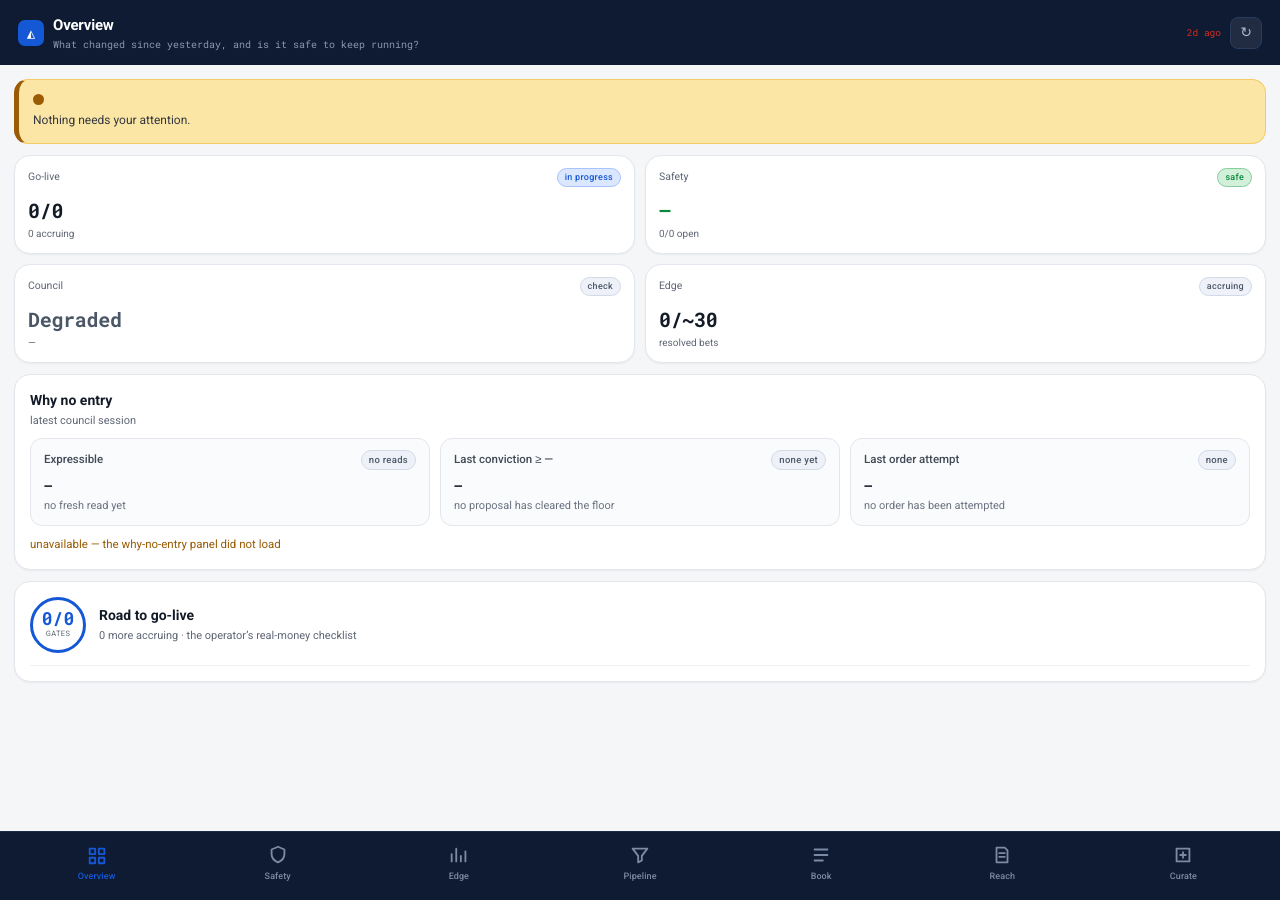
Scenario: book value leads, broker equity is secondary › mobile shows the as-of and STALE chip too
Click the tab "Safety" at (278, 863), box [187,840,368,886]
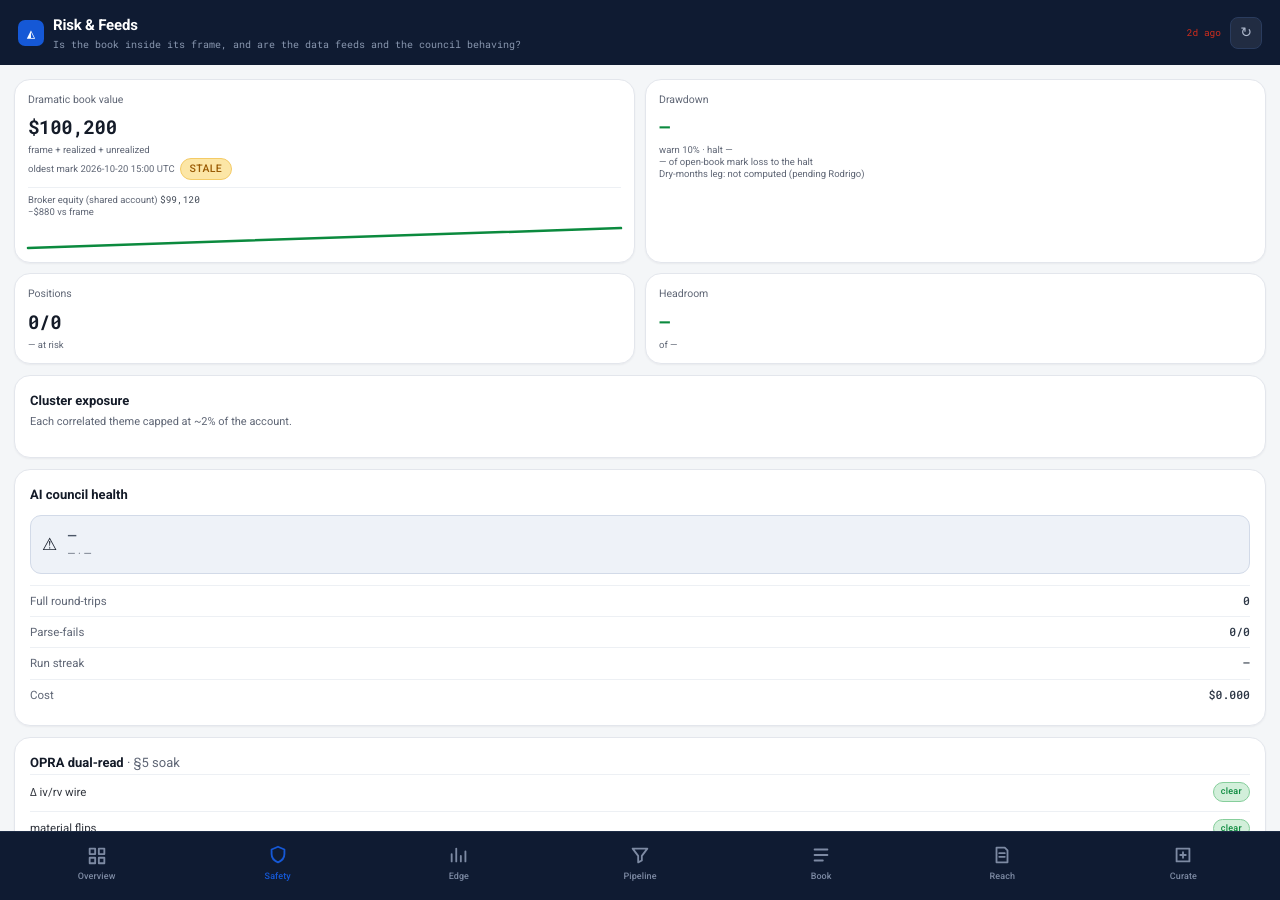
Check: the element with test id "book-as-of" shows "oldest mark 2026-10-20 15:00 UTC", box [28,158,232,180]
Check: the element with test id "book-as-of" shows "STALE", box [190,162,222,175]
